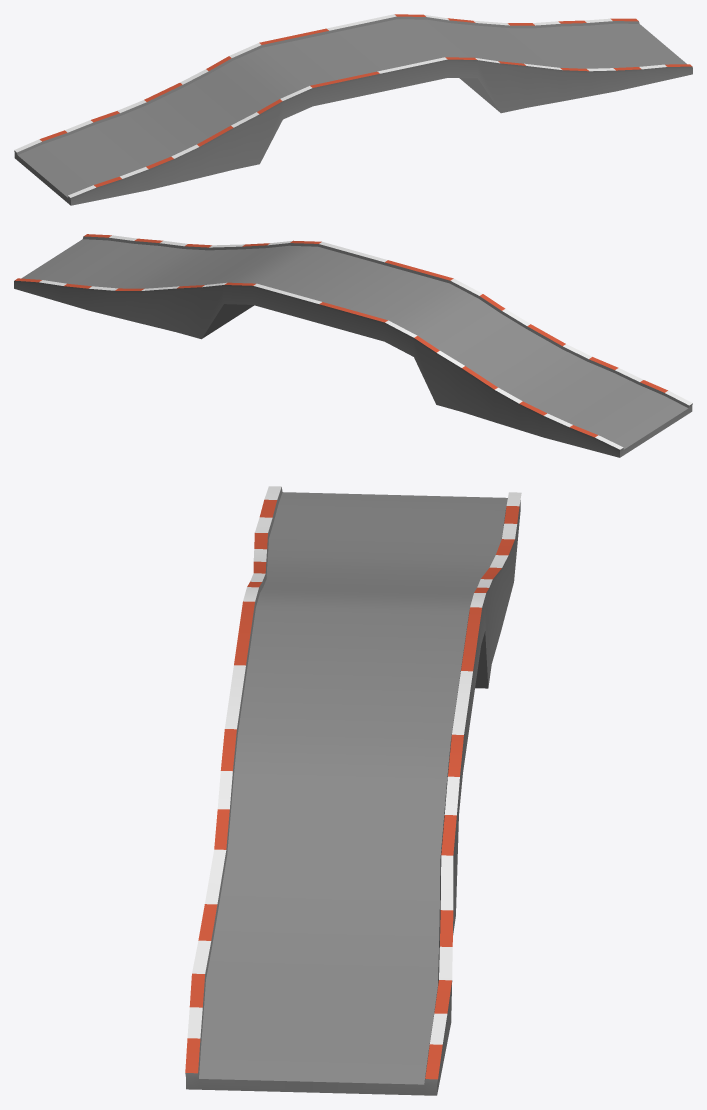
The model's file is bridge.glb.
3 renders of one model, top to bottom at view 1: azimuth 30°, elevation 25°; view 2: azimuth 150°, elevation 25°; view 3: azimuth 270°, elevation 25°, orthographic. The views are drawn at different scales.
Parts seen in each view (by area): view 1: Cube; view 2: Cube; view 3: Cube.
Boxes of the visible parts, x1,y1,x2,y2 form: Cube: (14,14,692,205); Cube: (14,234,692,457); Cube: (185,486,521,1095).
Bounding box in the file's own units: 153 × 15.68 × 36.64.
Materials: 1 (1 with a texture image).
